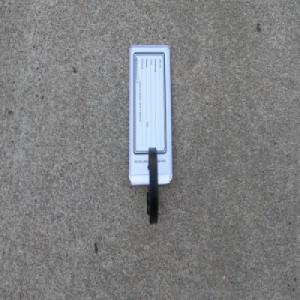LuggageTag: (126, 41, 174, 226)
